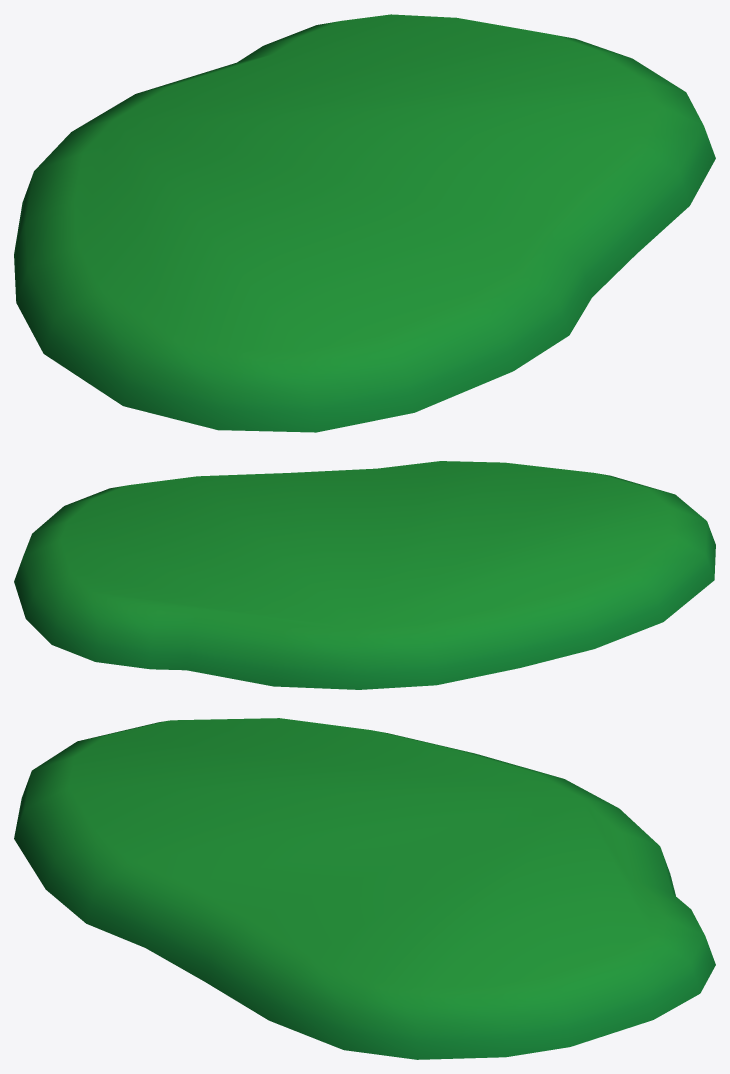
File: GrassPlane_1_A.fbx
3 renders of one model, top to bottom at view 1: azimuth 30°, elevation 25°; view 2: azimuth 150°, elevation 25°; view 3: azimuth 270°, elevation 25°, orthographic. The views are drawn at different scales.
Visible parts, largest first — view 1: GrassPlane_1_A; view 2: GrassPlane_1_A; view 3: GrassPlane_1_A.
Boxes of the visible parts, <box> form: GrassPlane_1_A: <box>14,14,715,432</box>; GrassPlane_1_A: <box>14,461,715,689</box>; GrassPlane_1_A: <box>14,718,715,1059</box>.
Bounding box in the file's own units: 52.41 × 3.81 × 49.26.
